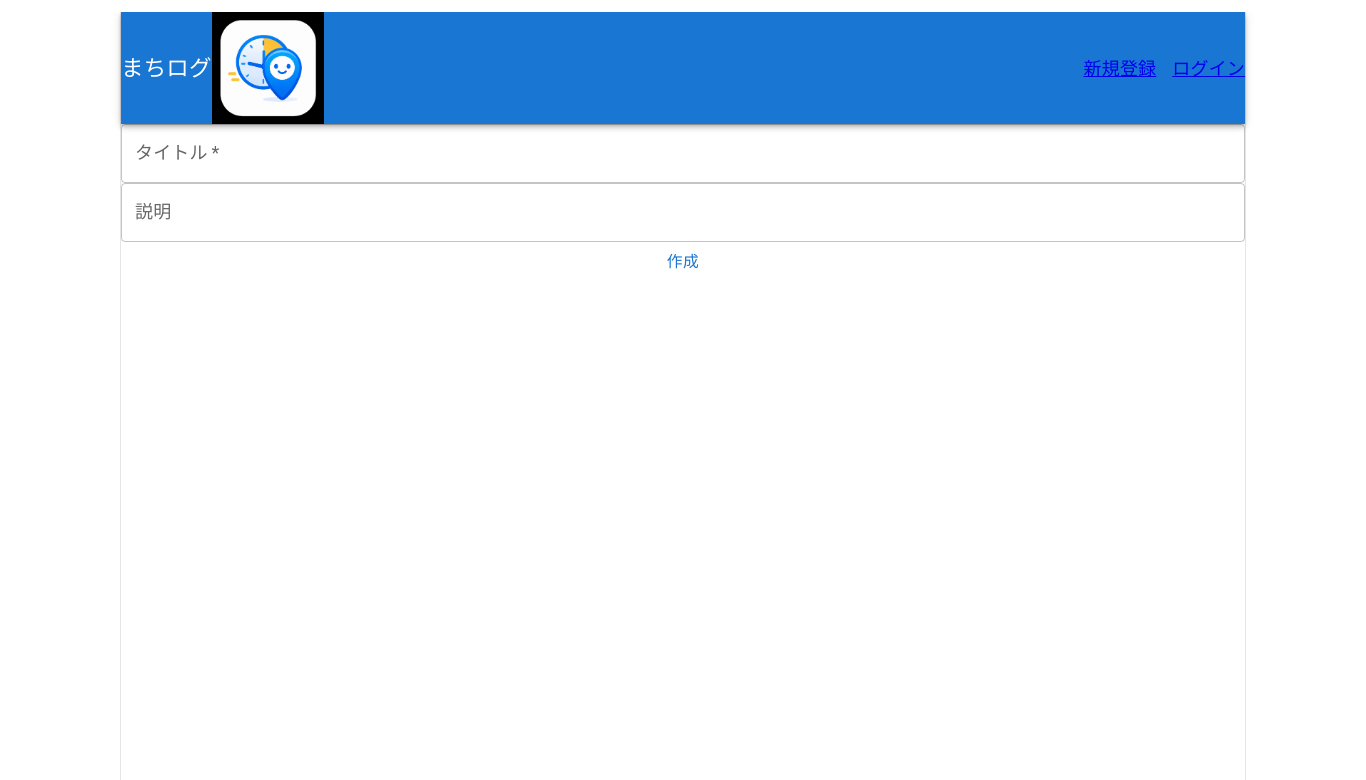
作成 › 作成が成功すると、トーストが表示される
Type "あ" into the field labelled "タイトル" at (683, 154), box 121,124 -> 1245,183
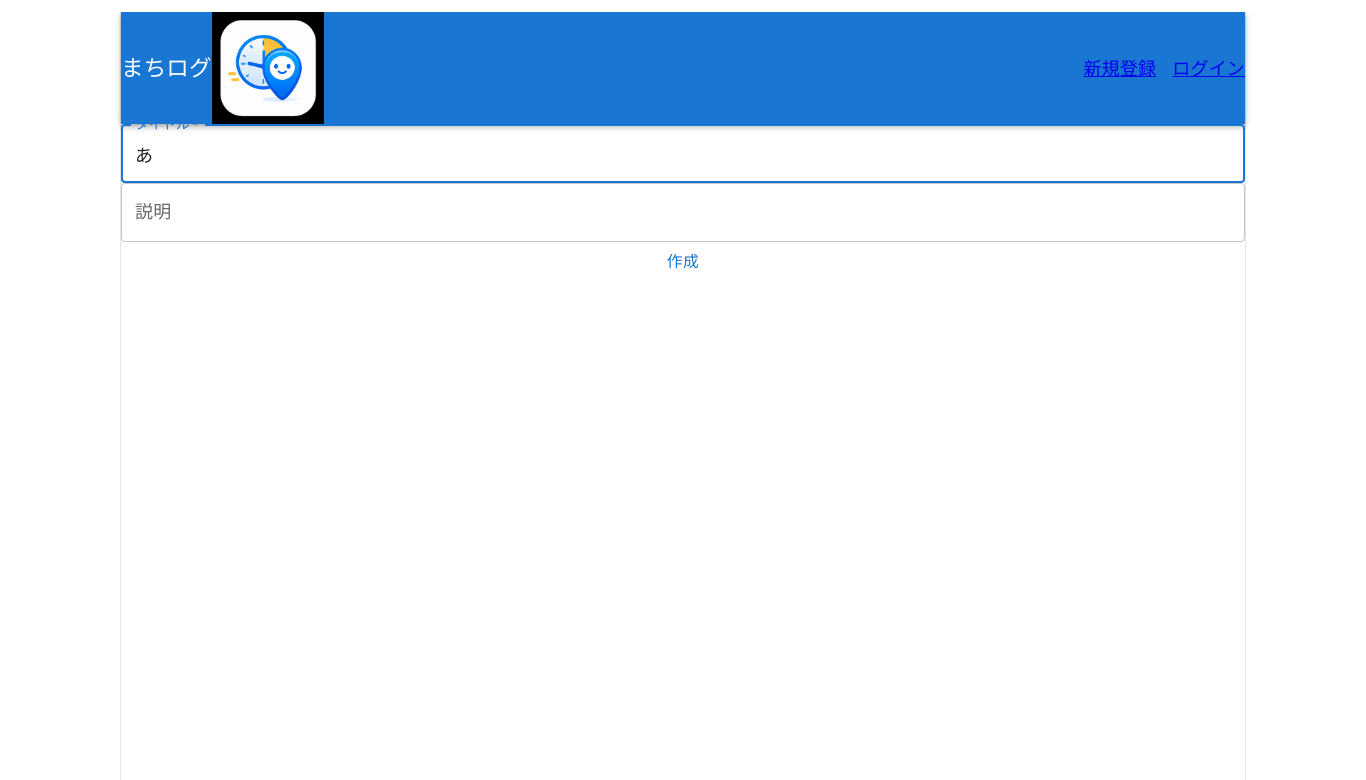
Click the button "作成" at (683, 262), box 121,242 -> 1245,282
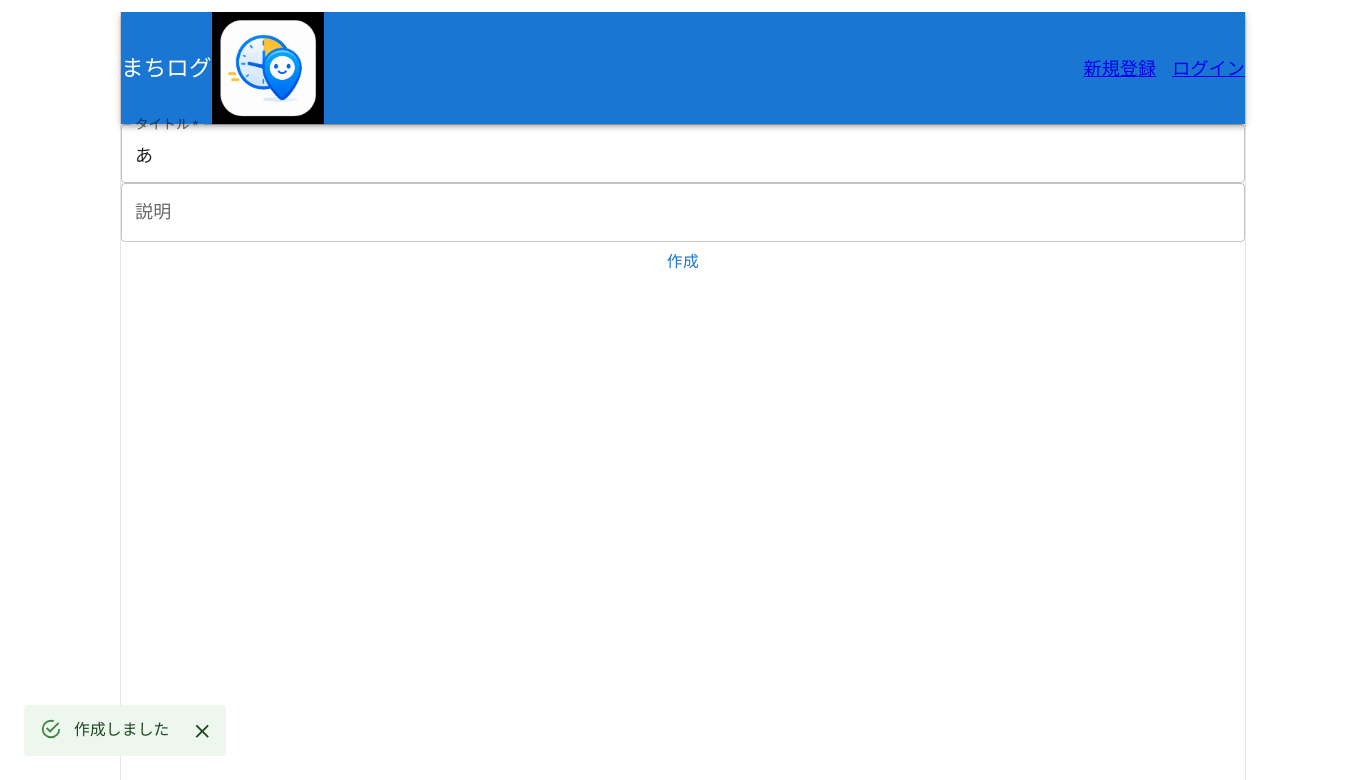
Check: the element showing "作成しました" is shown, box 24,706 -> 226,756
